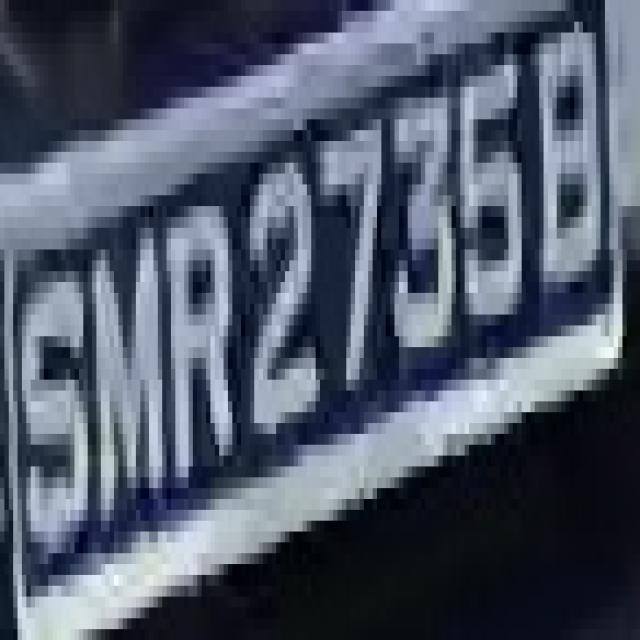2: (228, 173, 329, 444)
3: (386, 108, 460, 380)
5: (447, 33, 531, 358)
7: (316, 98, 382, 444)
B: (535, 11, 618, 336)
M: (74, 206, 171, 510)
R: (154, 174, 241, 477)
S: (18, 250, 96, 553)
